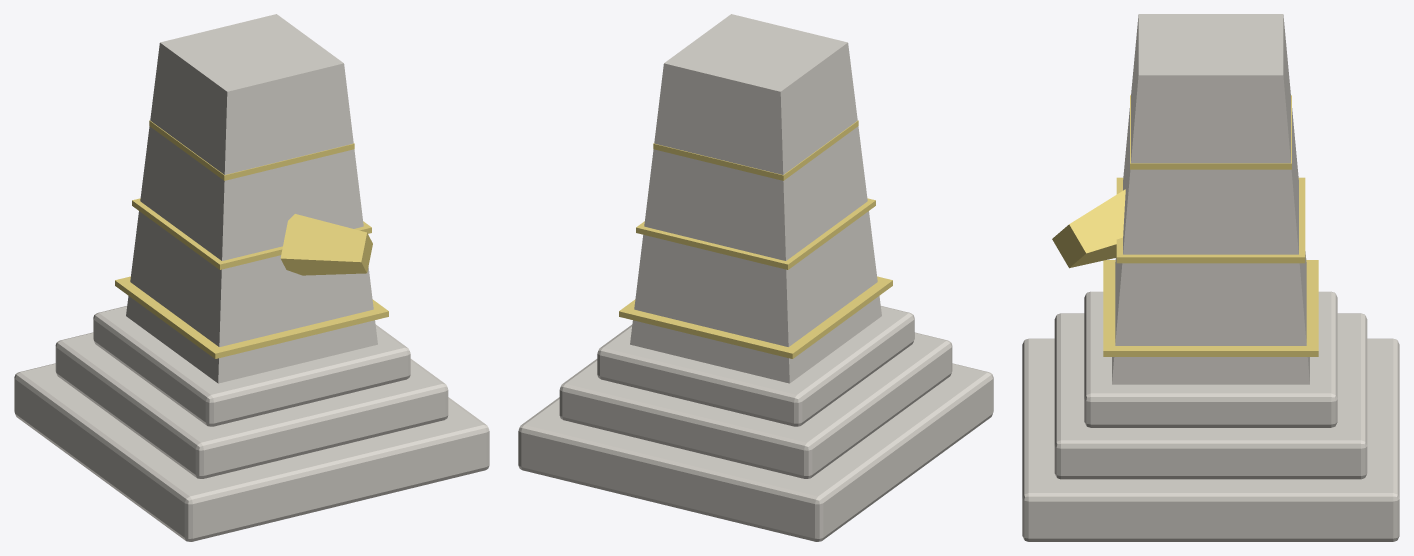
The model's file is MachuPicchu_Torre.fbx.
3 renders of one model, left to right at view 1: azimuth 30°, elevation 25°; view 2: azimuth 150°, elevation 25°; view 3: azimuth 270°, elevation 25°, orthographic. The views are drawn at different scales.
Visible parts, largest first — view 1: MachuPicchu_Torre; view 2: MachuPicchu_Torre; view 3: MachuPicchu_Torre.
Boxes of the visible parts, x1=… form: MachuPicchu_Torre: x1=14, y1=14, x2=489, y2=541; MachuPicchu_Torre: x1=518, y1=14, x2=993, y2=541; MachuPicchu_Torre: x1=1022, y1=14, x2=1399, y2=541.
Bounding box in the file's own units: 0.7 × 0.86 × 0.7.
